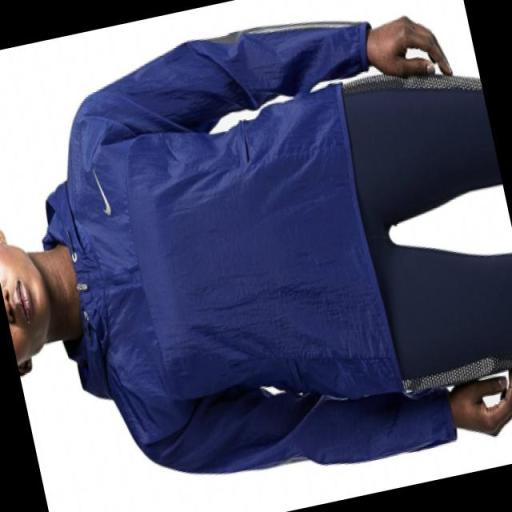Nike: (88, 162, 114, 221)
